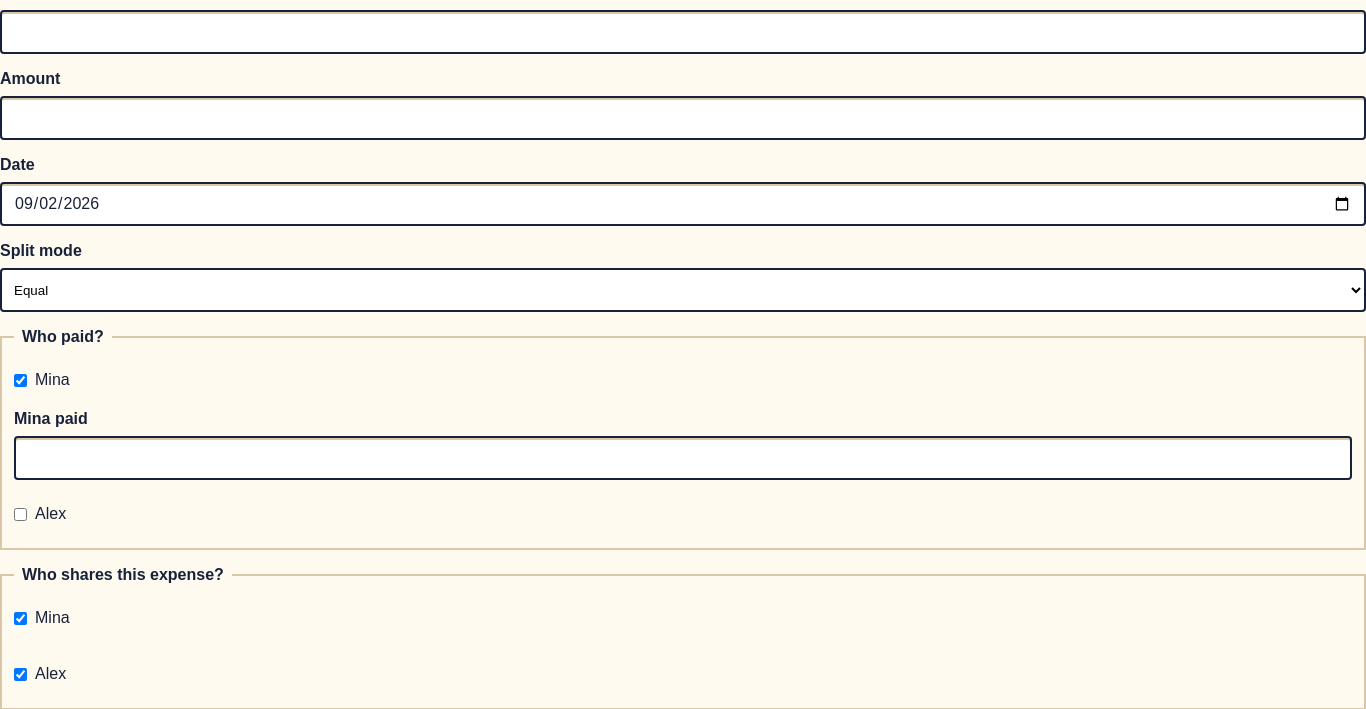
keeps roster order when a participant is removed and reselected
Type "10.01" into the field labelled "Amount" at {"x": 683, "y": 118}, box [0,96,1365,140]
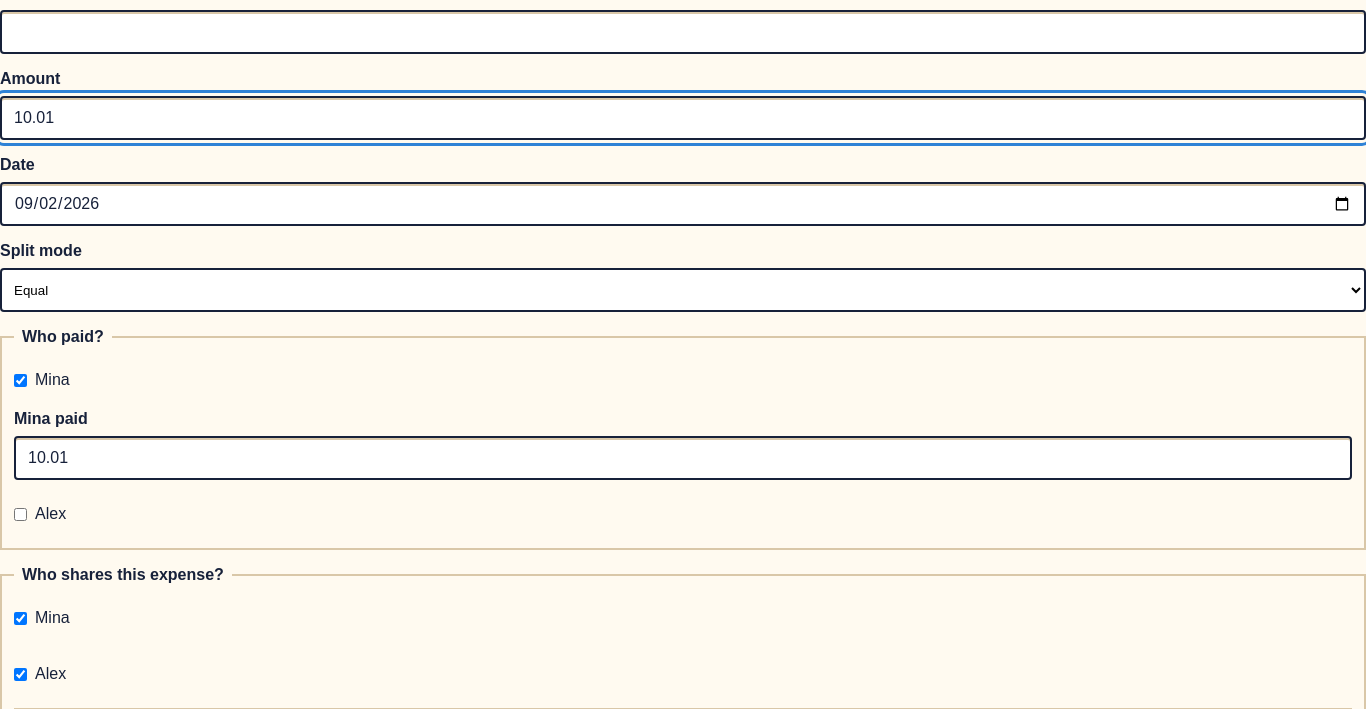
Click the checkbox labelled "Mina" below "Who shares this expense?" at {"x": 20, "y": 618}, box [14,612,27,624]
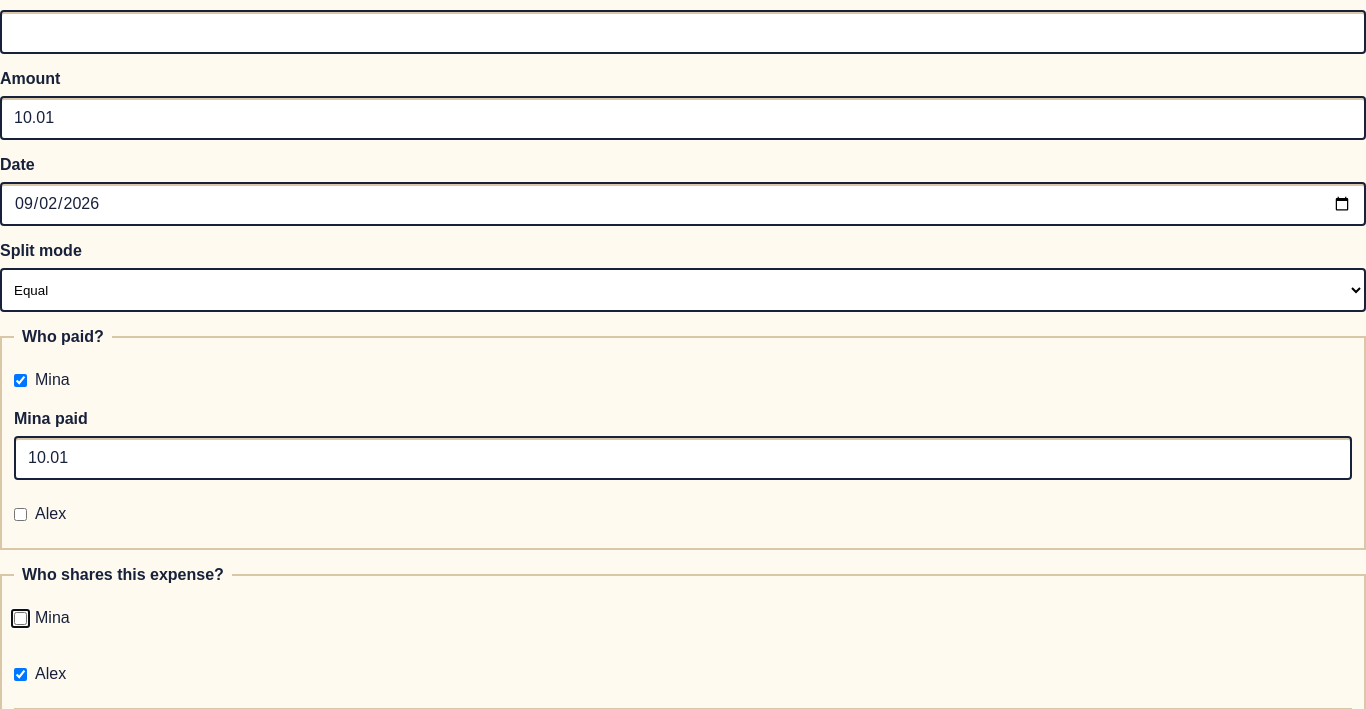
Click the checkbox labelled "Mina" below "Who shares this expense?" at {"x": 20, "y": 618}, box [14,612,27,624]
(page scrolled)
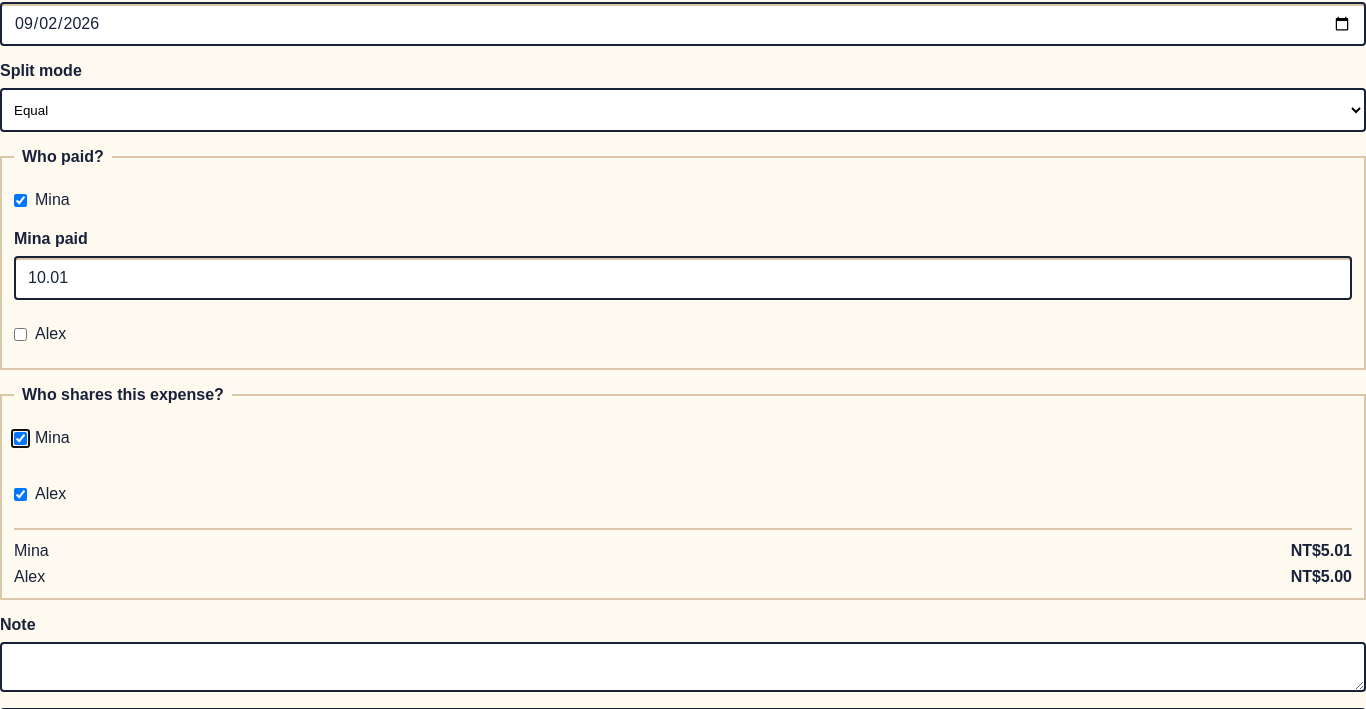
Check: the list item "NT$5.00" shows "Alex", box [14,568,45,585]
Check: the list item "NT$5.01" shows "Mina", box [14,542,49,559]
